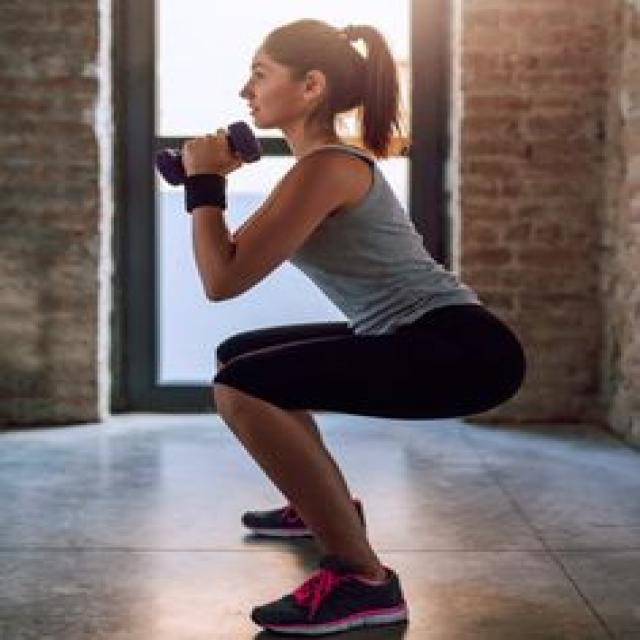squat: (151, 16, 538, 640)
